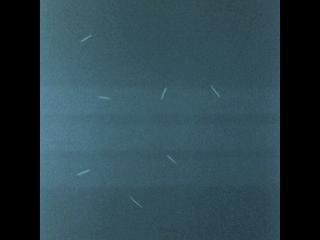scratch: (126, 192, 145, 211), (77, 31, 96, 48), (74, 166, 94, 178), (163, 151, 178, 166), (208, 83, 222, 99), (159, 84, 169, 101), (98, 95, 112, 101)
